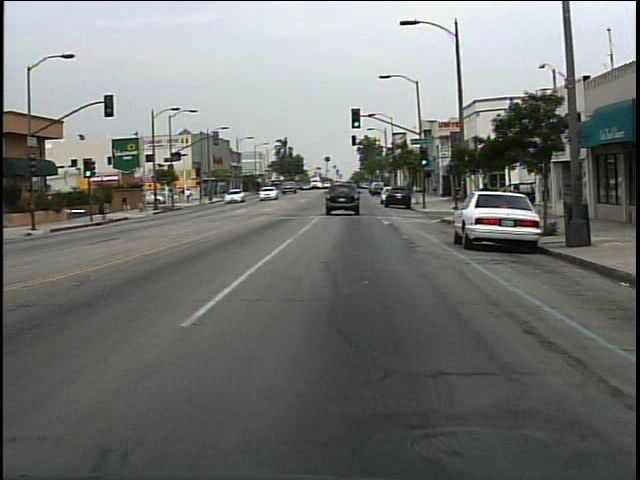person: (476, 177, 496, 219), (118, 192, 138, 221), (184, 186, 194, 205)
